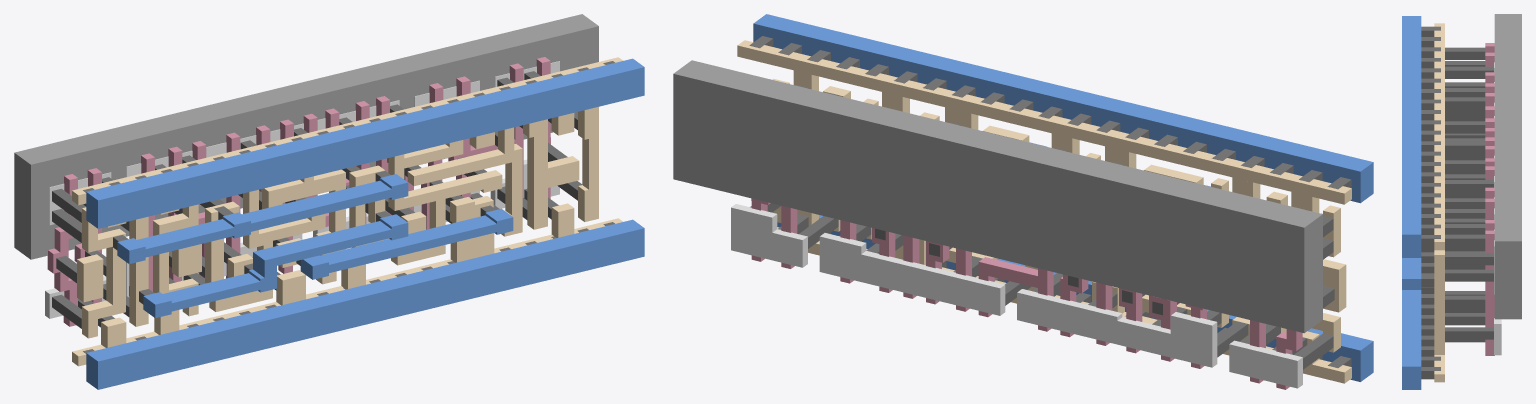
The model's file is sky130_fd_sc_hd__dfstp_1.gds.gltf.
The picture shows the model from 3 angles, left to right: view 1: azimuth 30°, elevation 25°; view 2: azimuth 150°, elevation 25°; view 3: azimuth 270°, elevation 25°; orthographic projection. The views are drawn at different scales.
Parts seen in each view (by area): view 1: sky130_fd_sc_hd__dfstp_1_met1, sky130_fd_sc_hd__dfstp_1_li1, sky130_fd_sc_hd__dfstp_1_nwell, sky130_fd_sc_hd__dfstp_1_poly, sky130_fd_sc_hd__dfstp_1_licon, sky130_fd_sc_hd__dfstp_1_diff, sky130_fd_sc_hd__dfstp_1_mcon; view 2: sky130_fd_sc_hd__dfstp_1_nwell, sky130_fd_sc_hd__dfstp_1_li1, sky130_fd_sc_hd__dfstp_1_met1, sky130_fd_sc_hd__dfstp_1_diff, sky130_fd_sc_hd__dfstp_1_poly, sky130_fd_sc_hd__dfstp_1_licon, sky130_fd_sc_hd__dfstp_1_mcon; view 3: sky130_fd_sc_hd__dfstp_1_licon, sky130_fd_sc_hd__dfstp_1_nwell, sky130_fd_sc_hd__dfstp_1_met1, sky130_fd_sc_hd__dfstp_1_mcon, sky130_fd_sc_hd__dfstp_1_li1, sky130_fd_sc_hd__dfstp_1_poly, sky130_fd_sc_hd__dfstp_1_diff.
Boxes of the visible parts, x1=… form: sky130_fd_sc_hd__dfstp_1_met1: x1=86, y1=58, x2=644, y2=389; sky130_fd_sc_hd__dfstp_1_li1: x1=72, y1=57, x2=622, y2=366; sky130_fd_sc_hd__dfstp_1_nwell: x1=14, y1=14, x2=598, y2=259; sky130_fd_sc_hd__dfstp_1_poly: x1=47, y1=57, x2=550, y2=326; sky130_fd_sc_hd__dfstp_1_licon: x1=52, y1=71, x2=582, y2=328; sky130_fd_sc_hd__dfstp_1_diff: x1=45, y1=61, x2=559, y2=318; sky130_fd_sc_hd__dfstp_1_mcon: x1=83, y1=61, x2=614, y2=353; sky130_fd_sc_hd__dfstp_1_nwell: x1=673, y1=60, x2=1322, y2=333; sky130_fd_sc_hd__dfstp_1_li1: x1=737, y1=40, x2=1351, y2=383; sky130_fd_sc_hd__dfstp_1_met1: x1=753, y1=14, x2=1373, y2=381; sky130_fd_sc_hd__dfstp_1_diff: x1=731, y1=204, x2=1302, y2=388; sky130_fd_sc_hd__dfstp_1_poly: x1=751, y1=198, x2=1302, y2=389; sky130_fd_sc_hd__dfstp_1_licon: x1=750, y1=85, x2=1334, y2=369; sky130_fd_sc_hd__dfstp_1_mcon: x1=749, y1=36, x2=1351, y2=367; sky130_fd_sc_hd__dfstp_1_licon: x1=1445, y1=47, x2=1493, y2=342; sky130_fd_sc_hd__dfstp_1_nwell: x1=1494, y1=14, x2=1521, y2=319; sky130_fd_sc_hd__dfstp_1_met1: x1=1402, y1=16, x2=1421, y2=389; sky130_fd_sc_hd__dfstp_1_mcon: x1=1421, y1=26, x2=1440, y2=379; sky130_fd_sc_hd__dfstp_1_li1: x1=1434, y1=23, x2=1444, y2=382; sky130_fd_sc_hd__dfstp_1_poly: x1=1485, y1=43, x2=1494, y2=355; sky130_fd_sc_hd__dfstp_1_diff: x1=1494, y1=62, x2=1501, y2=355.
Bounding box in the file's own units: 10.04 × 3.2 × 2.24.
